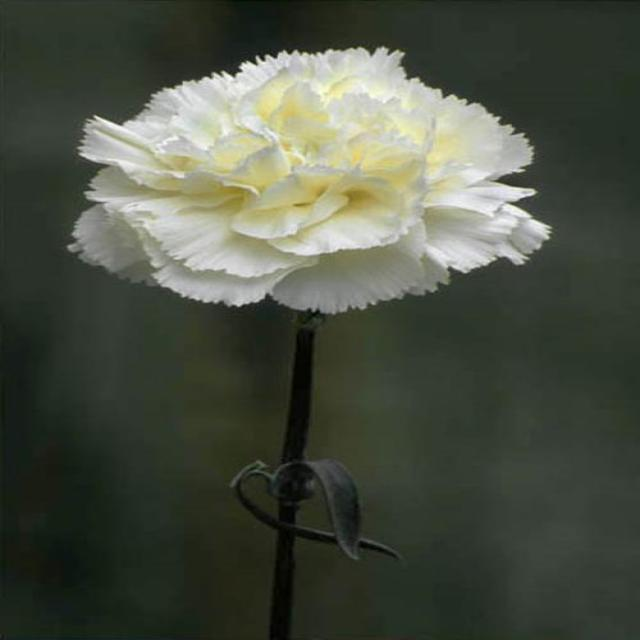carnation: (80, 46, 528, 309)
